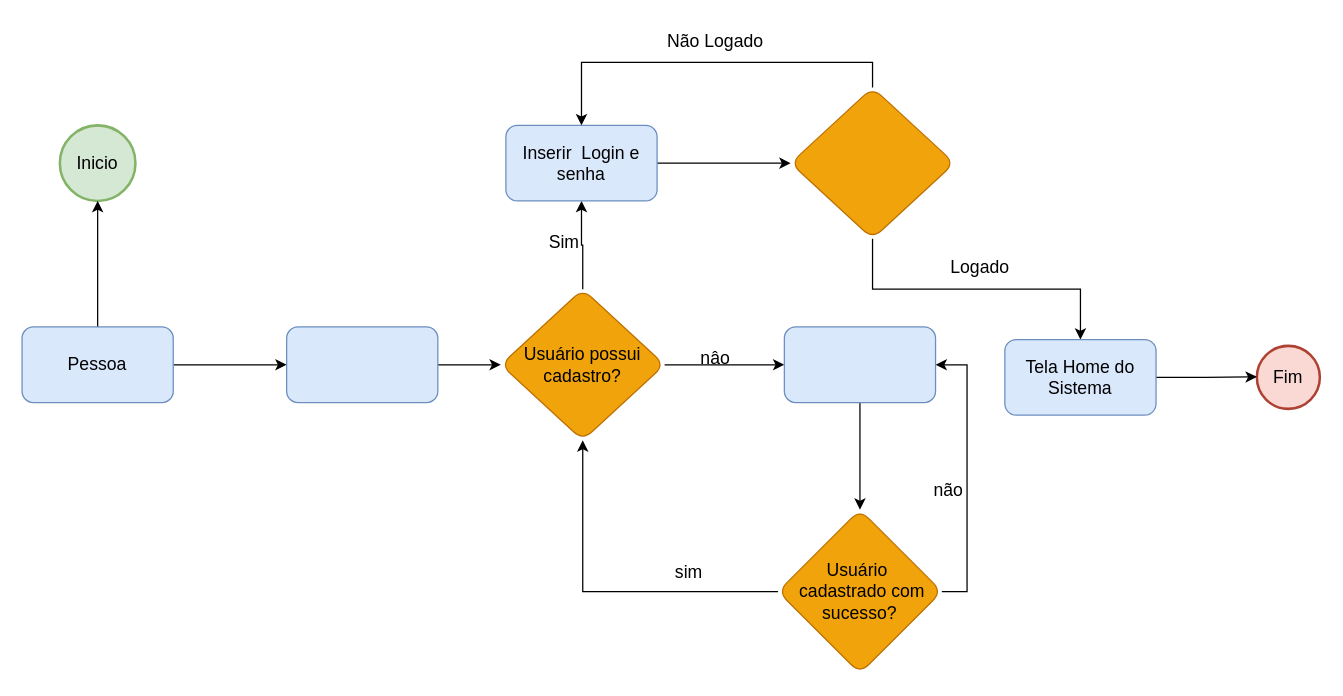
The diagram is 1343 pixels wide and 696 high, and some of its shapes have lost their labels. Each missing label, with the centre of its shape:
"Acesso tela Login" belongs at point 361,364.
"Cadastrar usuário" belongs at point 859,364.
"Login e Senha Validados?" belongs at point 871,162.
